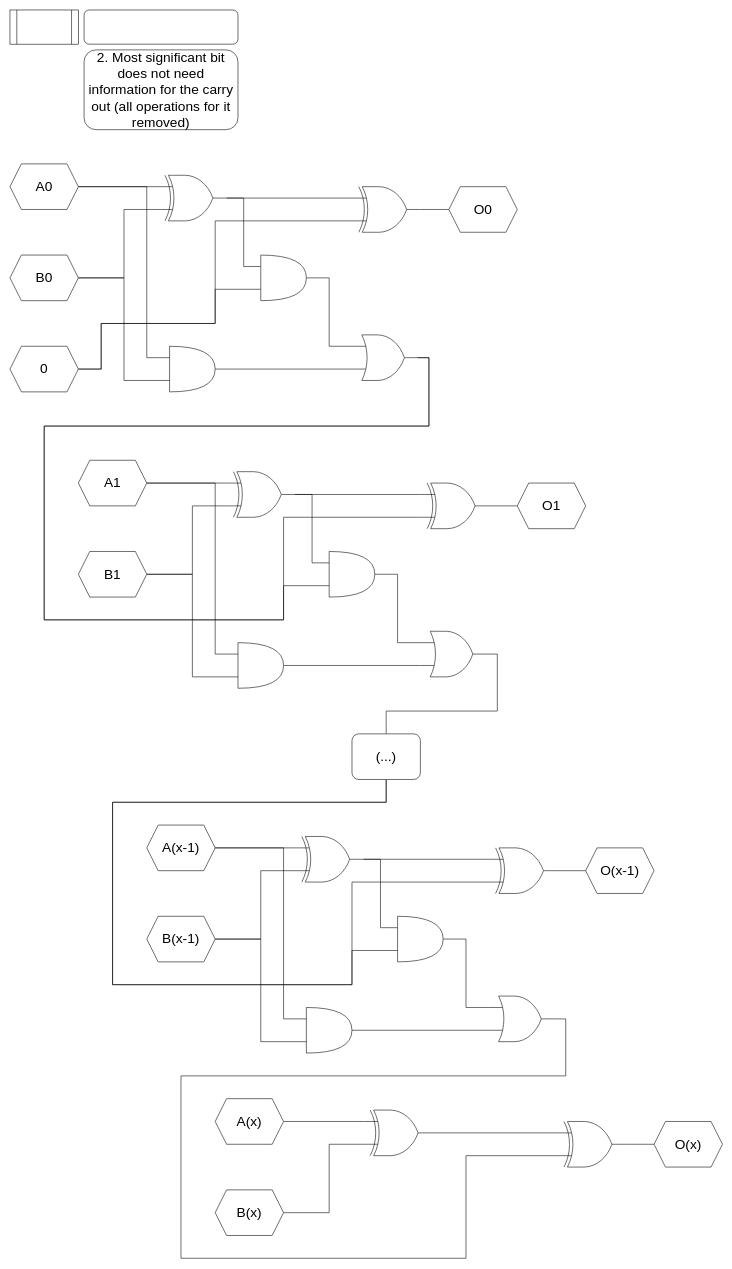
Image size: 732x1269. Some labels were removed from this diagram. The shapes that lost their labels are listed below. From the top down, each one's centre as x and y in pixels, then its label:
At (x=43, y=26): "Notes:".
At (x=161, y=26): "1. Least significant bit has the carry in as 0".
